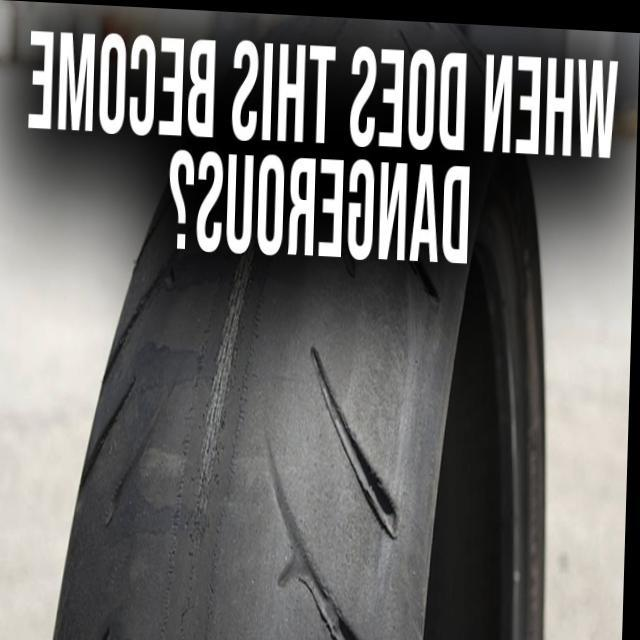Flat spots: (136, 280, 378, 639)
